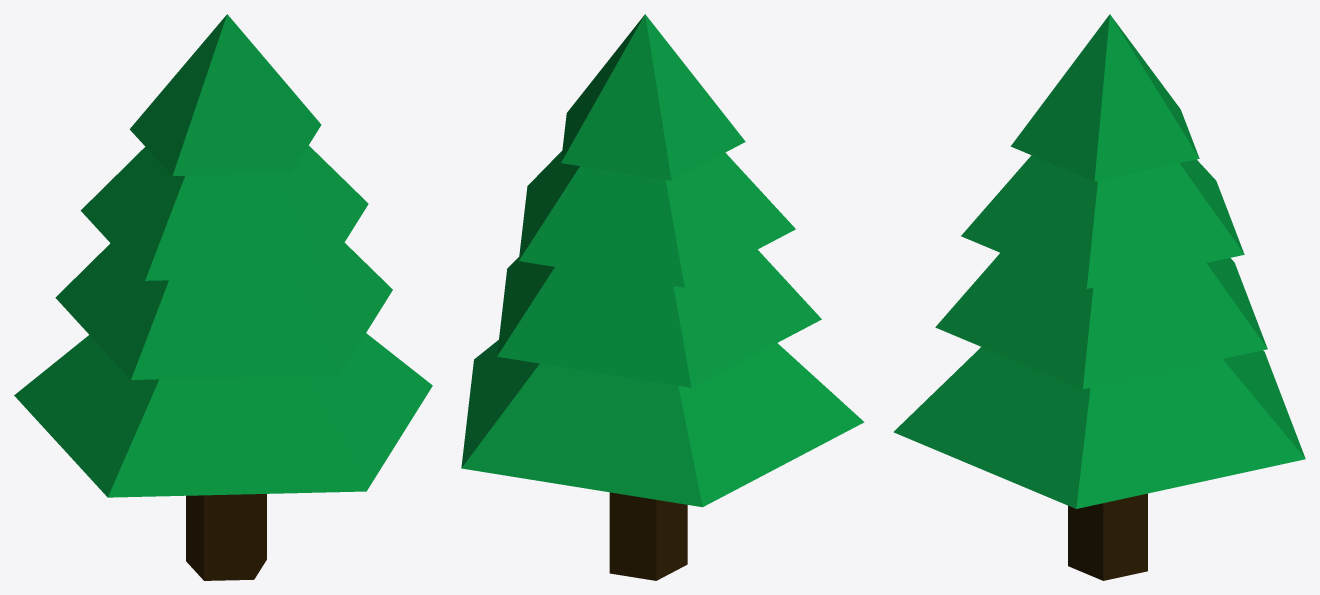
Rendered from Tree_1.fbx.
3 renders of one model, left to right at view 1: azimuth 30°, elevation 25°; view 2: azimuth 150°, elevation 25°; view 3: azimuth 270°, elevation 25°, orthographic.
Visible parts, largest first — view 1: Tree1_Leaves1, Tree1_Leaves2, Tree1_Leaves3, Tree1_Leaves4, Tree1; view 2: Tree1_Leaves1, Tree1_Leaves2, Tree1_Leaves3, Tree1_Leaves4, Tree1; view 3: Tree1_Leaves1, Tree1_Leaves2, Tree1_Leaves3, Tree1_Leaves4, Tree1.
Part boxes in pixels (x1,y1,x2,y2): Tree1_Leaves1: (14,333,432,497); Tree1_Leaves2: (55,242,392,379); Tree1_Leaves3: (80,145,368,280); Tree1_Leaves4: (129,14,321,176); Tree1: (186,494,266,580); Tree1_Leaves1: (461,340,864,507); Tree1_Leaves2: (497,249,821,387); Tree1_Leaves3: (518,151,795,287); Tree1_Leaves4: (561,14,745,180); Tree1: (609,492,687,580); Tree1_Leaves1: (893,347,1305,508); Tree1_Leaves2: (935,253,1267,389); Tree1_Leaves3: (961,155,1244,288); Tree1_Leaves4: (1010,14,1199,181); Tree1: (1068,493,1147,580).
Size of the model in its own units: 558 by 558 by 820.
